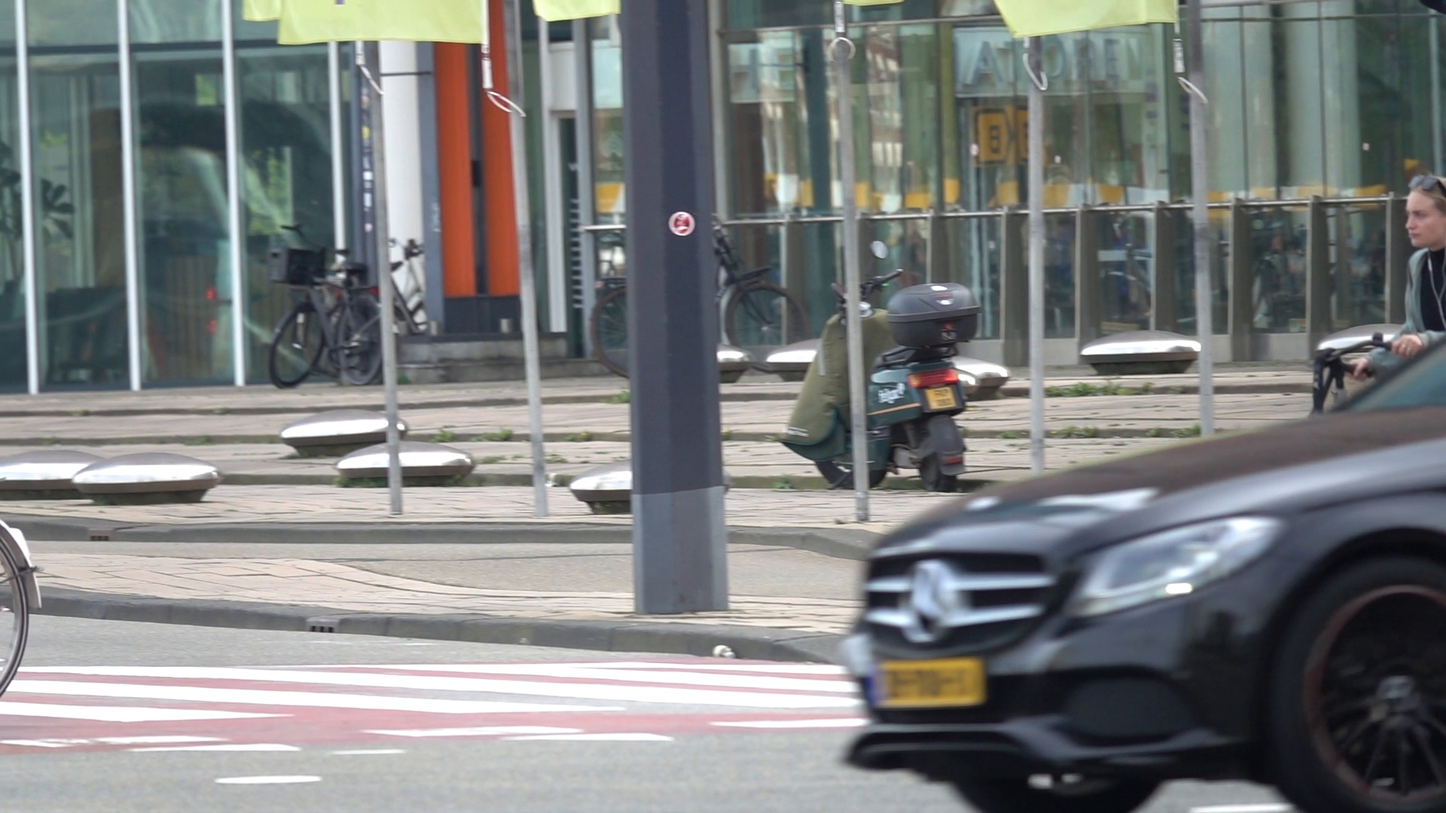car: (836, 342, 1444, 805)
